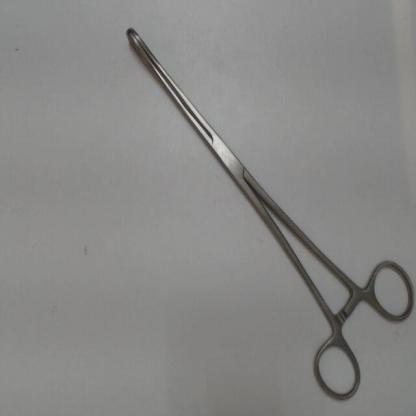Sponge Forceps: (120, 22, 416, 411)
